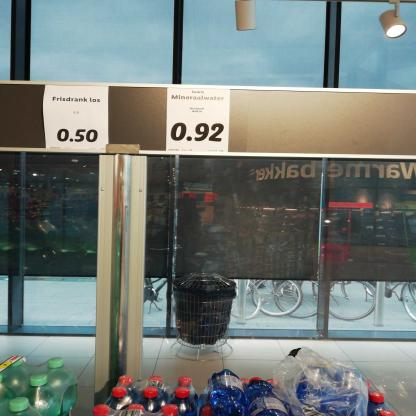prtg: (44, 86, 110, 150), (167, 89, 231, 153)
